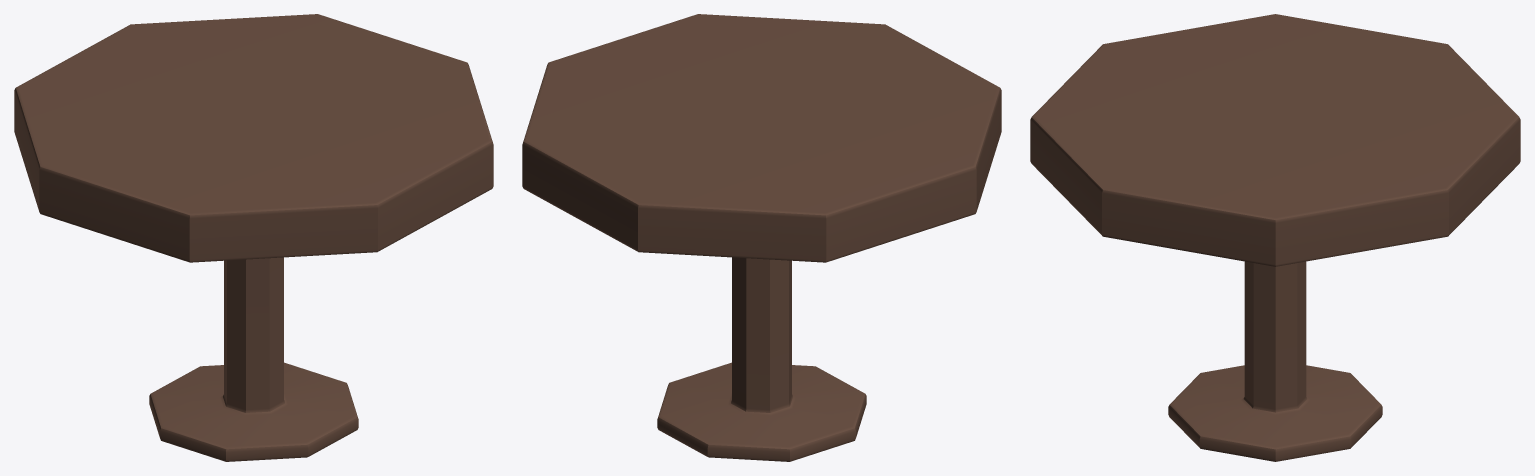
Rendered from table_ronde.fbx.
The picture shows the model from 3 angles, left to right: view 1: azimuth 30°, elevation 25°; view 2: azimuth 150°, elevation 25°; view 3: azimuth 270°, elevation 25°; orthographic projection.
Visible parts, largest first — view 1: pCylinder1; view 2: pCylinder1; view 3: pCylinder1.
Boxes of the visible parts, left/top/right/bottom form: pCylinder1: left=14, top=14, right=493, bottom=461; pCylinder1: left=522, top=14, right=1001, bottom=461; pCylinder1: left=1030, top=14, right=1520, bottom=461.
Size of the model in its own units: 0.0113 by 0.00774 by 0.0113.
